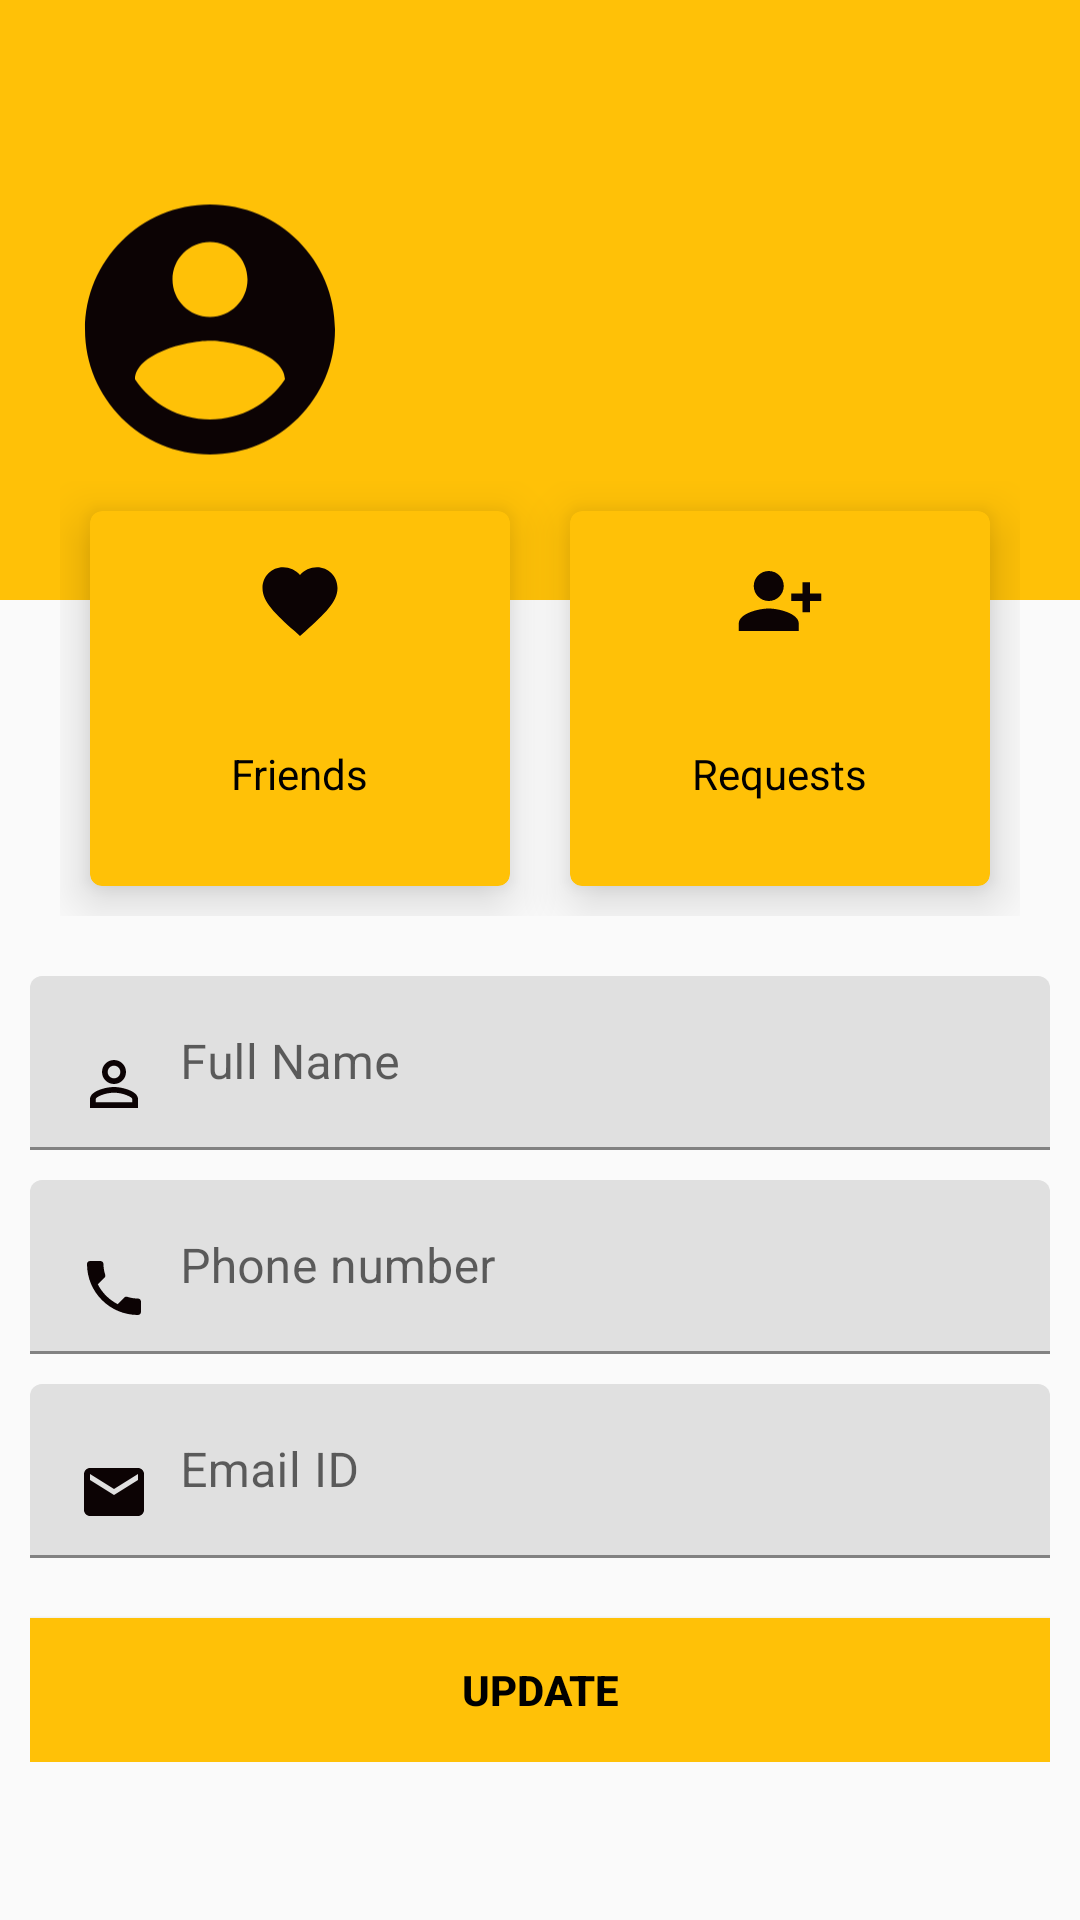

Where icons sit on this 1080px x 1920px app screen, as [x1,y1,x2,y2]:
account circle: [85,204,335,455]
favorite: [262,567,338,636]
person add: [738,571,822,631]
